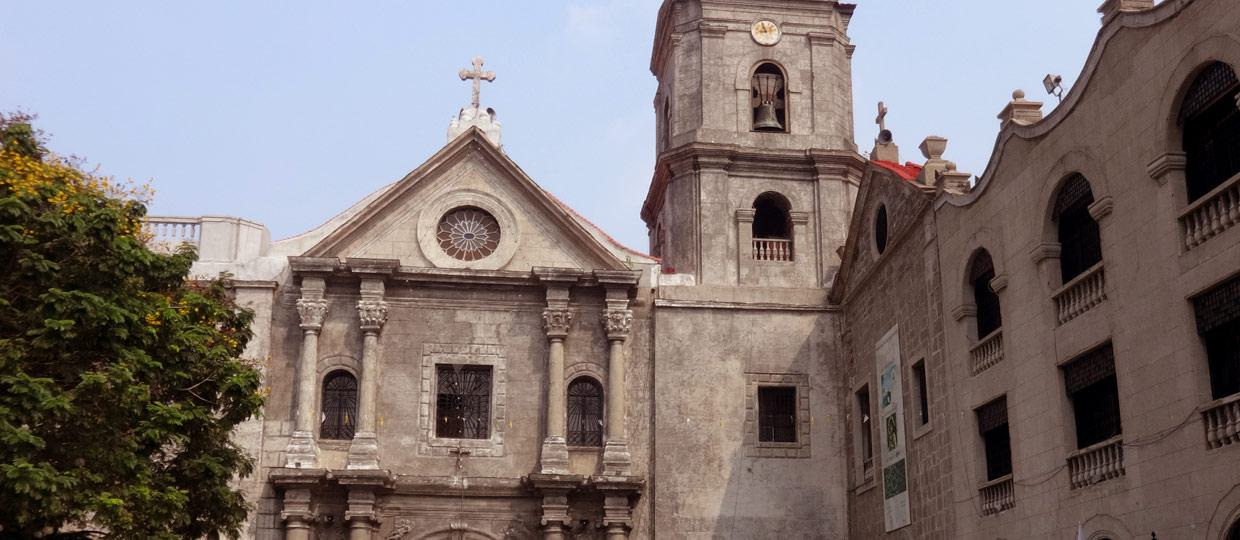San Agustin Church: (261, 1, 855, 540)
